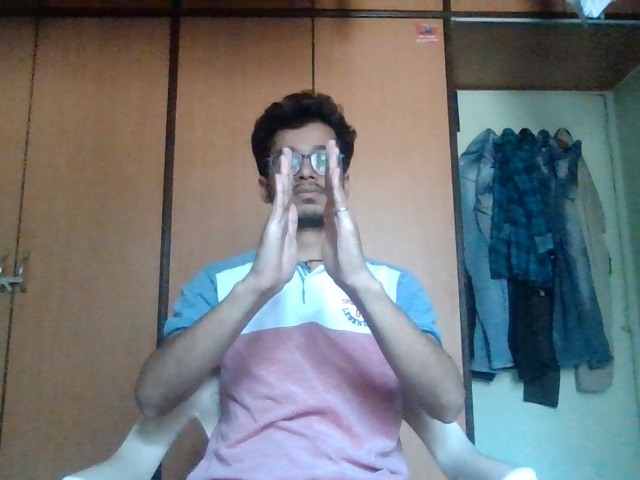morning: (264, 125, 362, 291)
